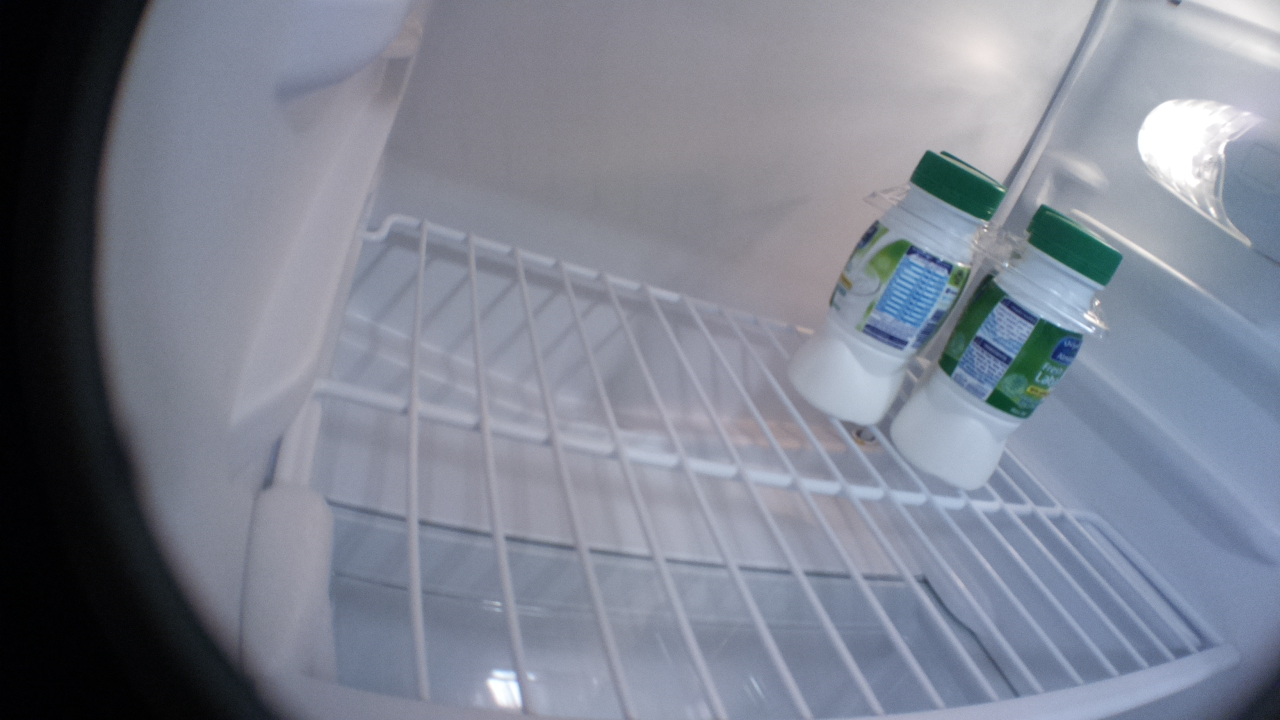laban: (888, 210, 1123, 494), (784, 146, 1008, 422)
